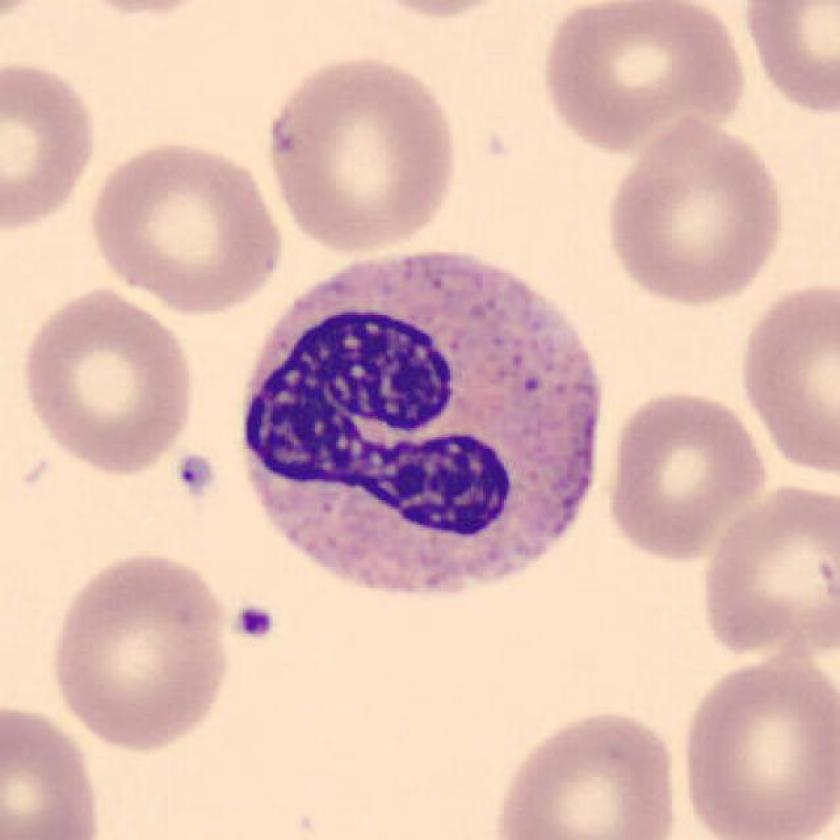neutrophil: (247, 256, 599, 597)
